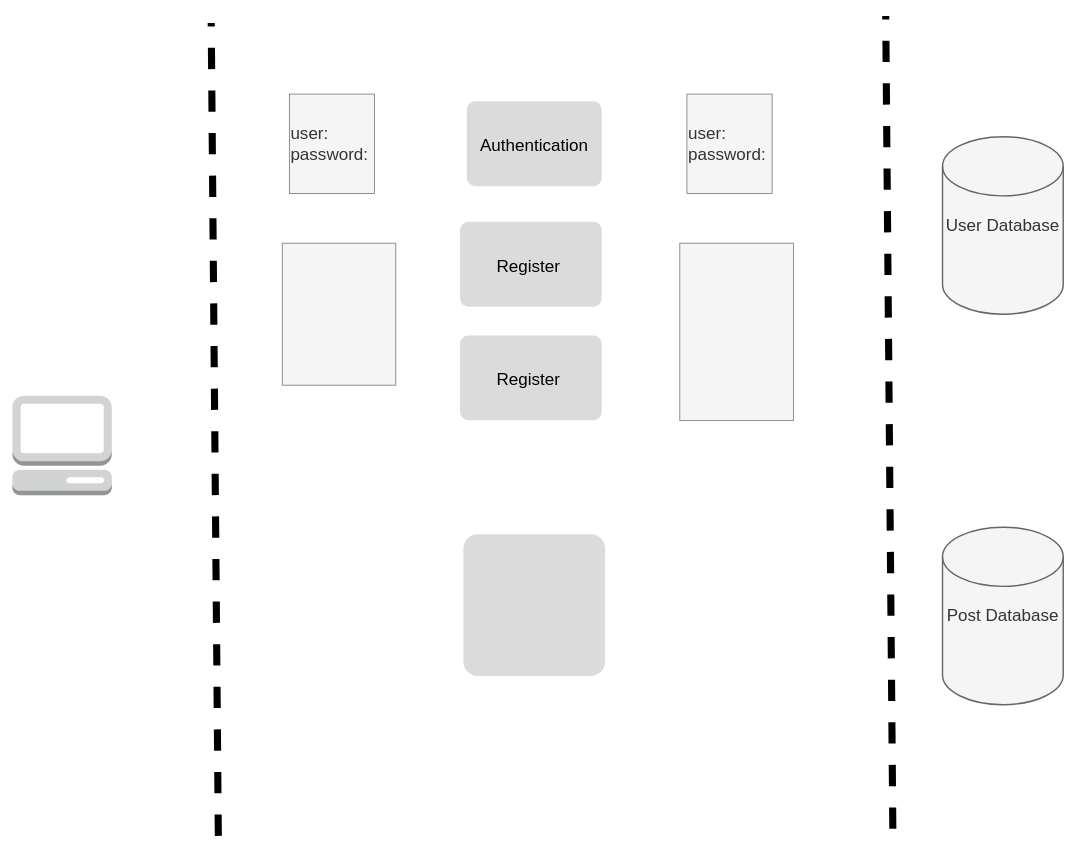
The diagram is 1076 pixels wide and 852 high, and some of its shapes have lost their labels. Each missing label, with the centre of its shape:
"display_name: user: password: email: agreemant:" belongs at point (339, 313).
"Post service" belongs at point (534, 605).
"user_id: display_name: user: password: email: agreemant: token:" belongs at point (736, 331).
